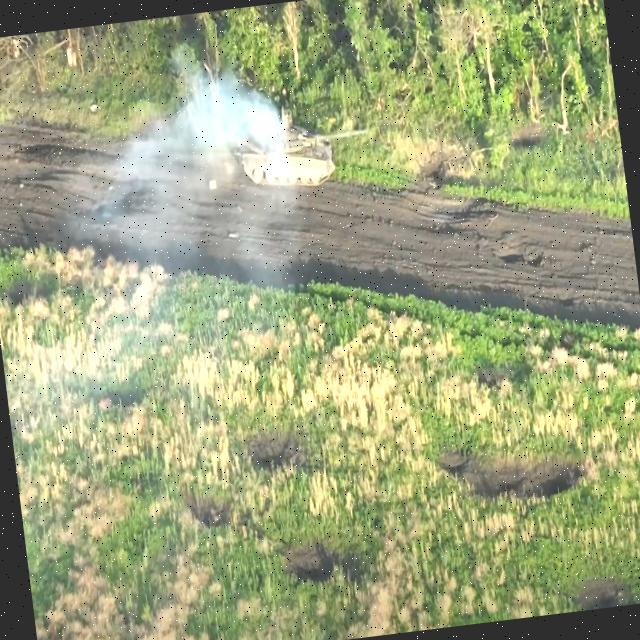MBT: (234, 102, 377, 198)
